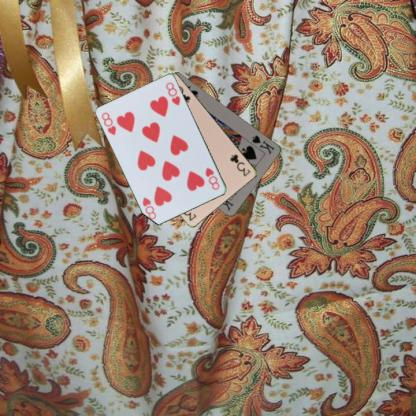3c: (228, 152, 251, 178)
8h: (100, 110, 118, 137), (203, 165, 221, 191)
Ks: (250, 132, 276, 156)
